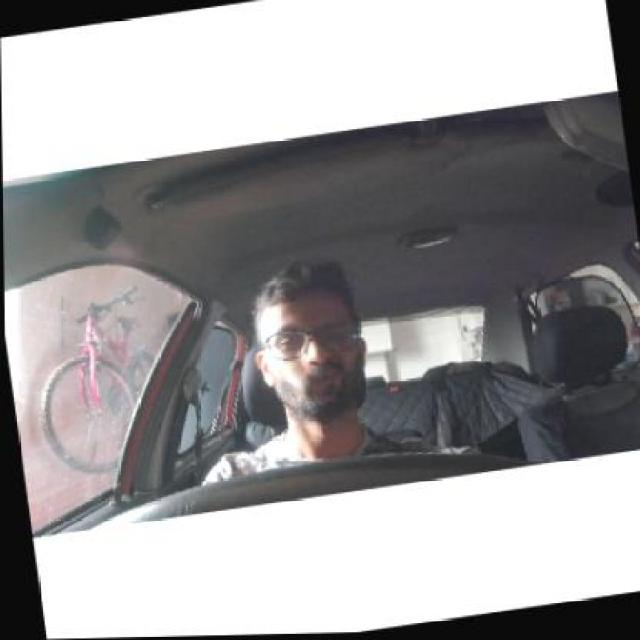LeftRight: (242, 257, 374, 423)
